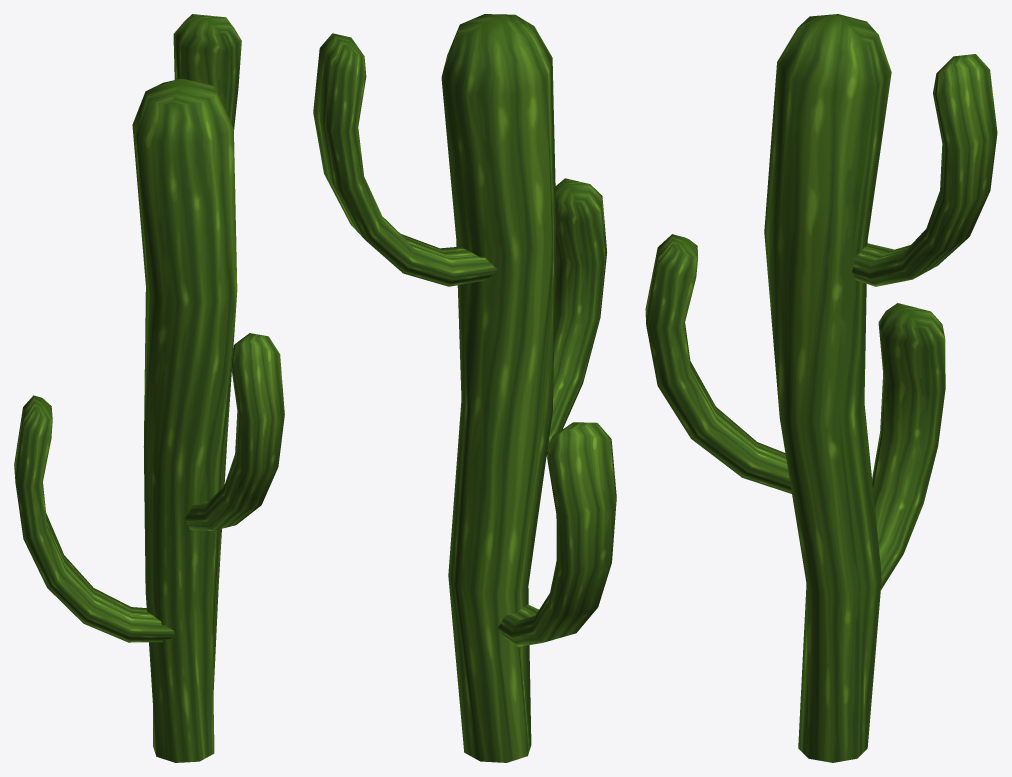
Rendered from Cactus_01.FBX.
3 views of the same model, side by side, from view 1: azimuth 30°, elevation 25°; view 2: azimuth 150°, elevation 25°; view 3: azimuth 270°, elevation 25° (orthographic). The views are drawn at different scales.
Parts seen in each view (by area): view 1: Cactus_01; view 2: Cactus_01; view 3: Cactus_01.
Boxes of the visible parts, <box> form: Cactus_01: <box>14,14,284,762</box>; Cactus_01: <box>313,14,616,762</box>; Cactus_01: <box>645,14,997,762</box>.
Size of the model in its own units: 0.8311 by 2.16 by 0.9405.
